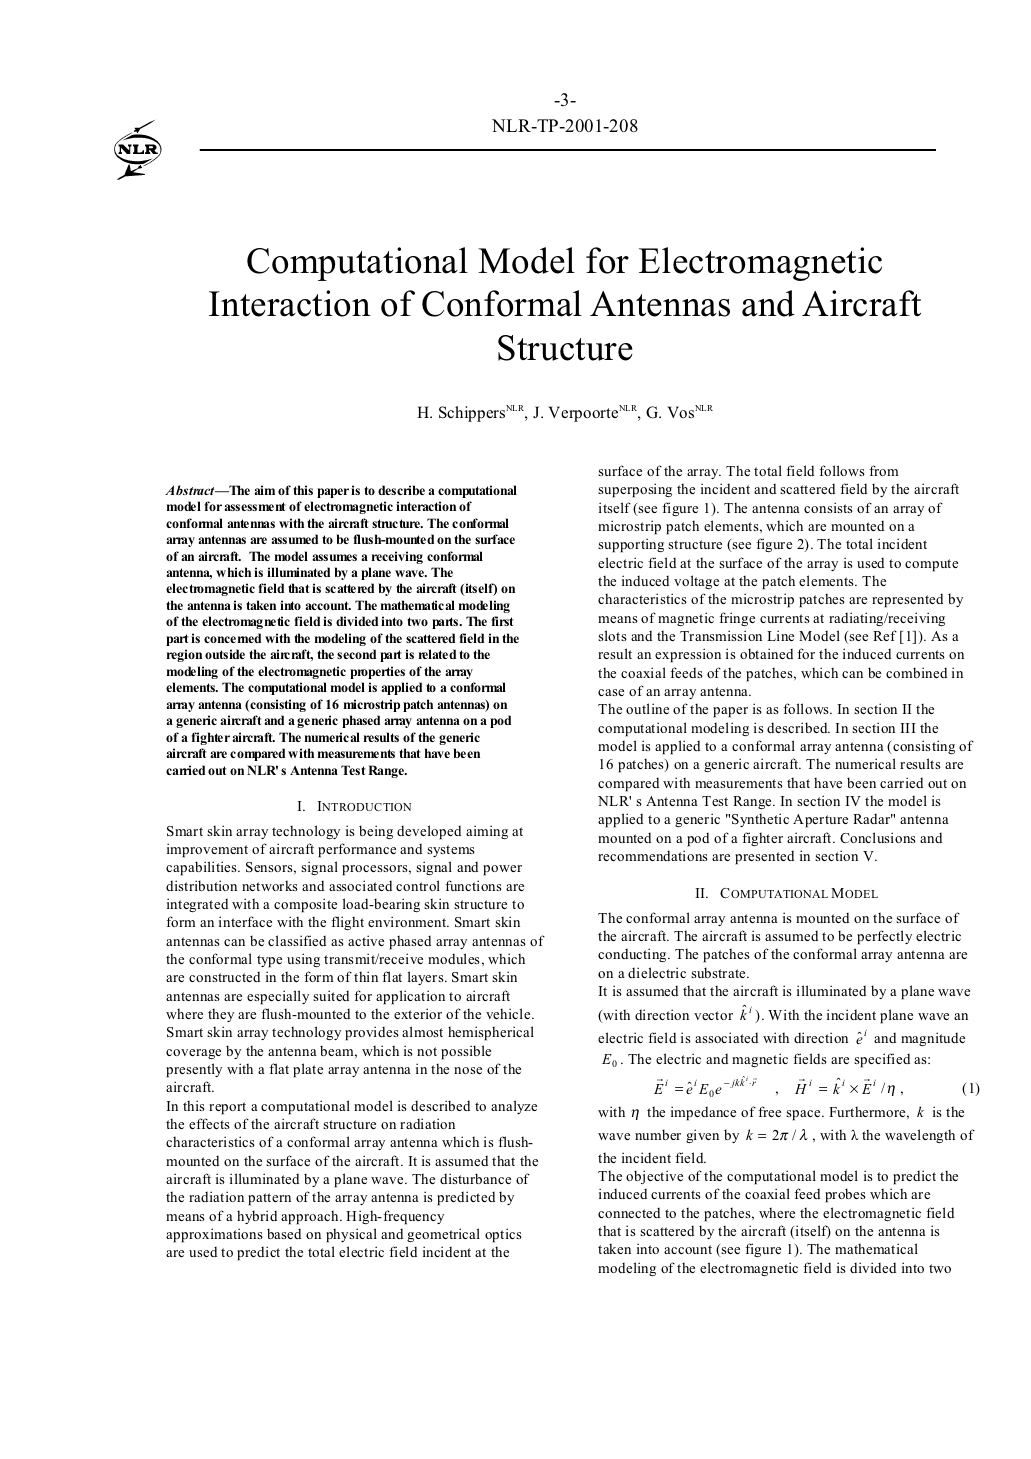figure: (114, 119, 161, 178)
formula: (653, 1075, 979, 1096)
